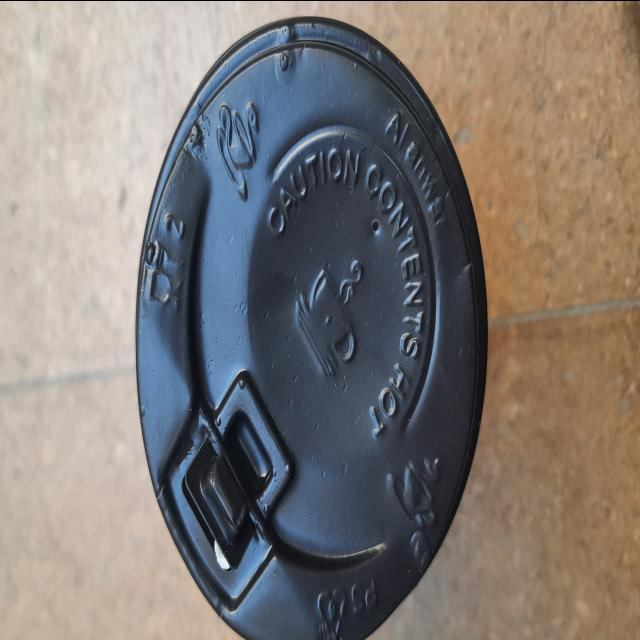plastic: (98, 0, 504, 640)
